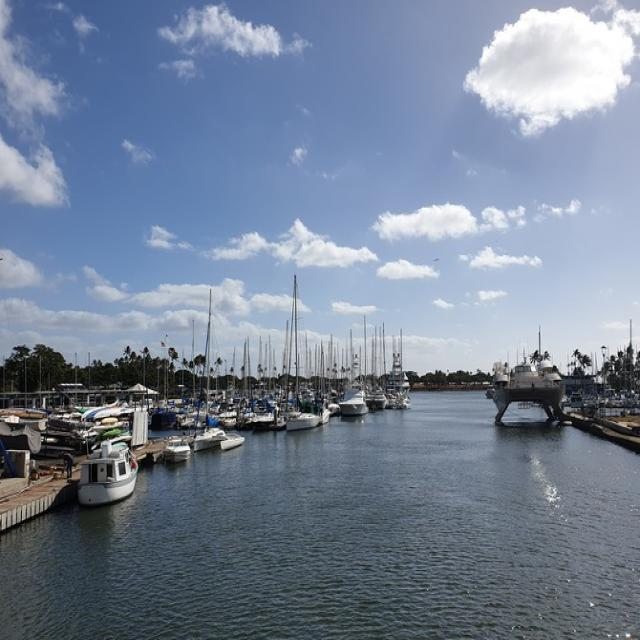houseboat: (82, 434, 146, 518)
